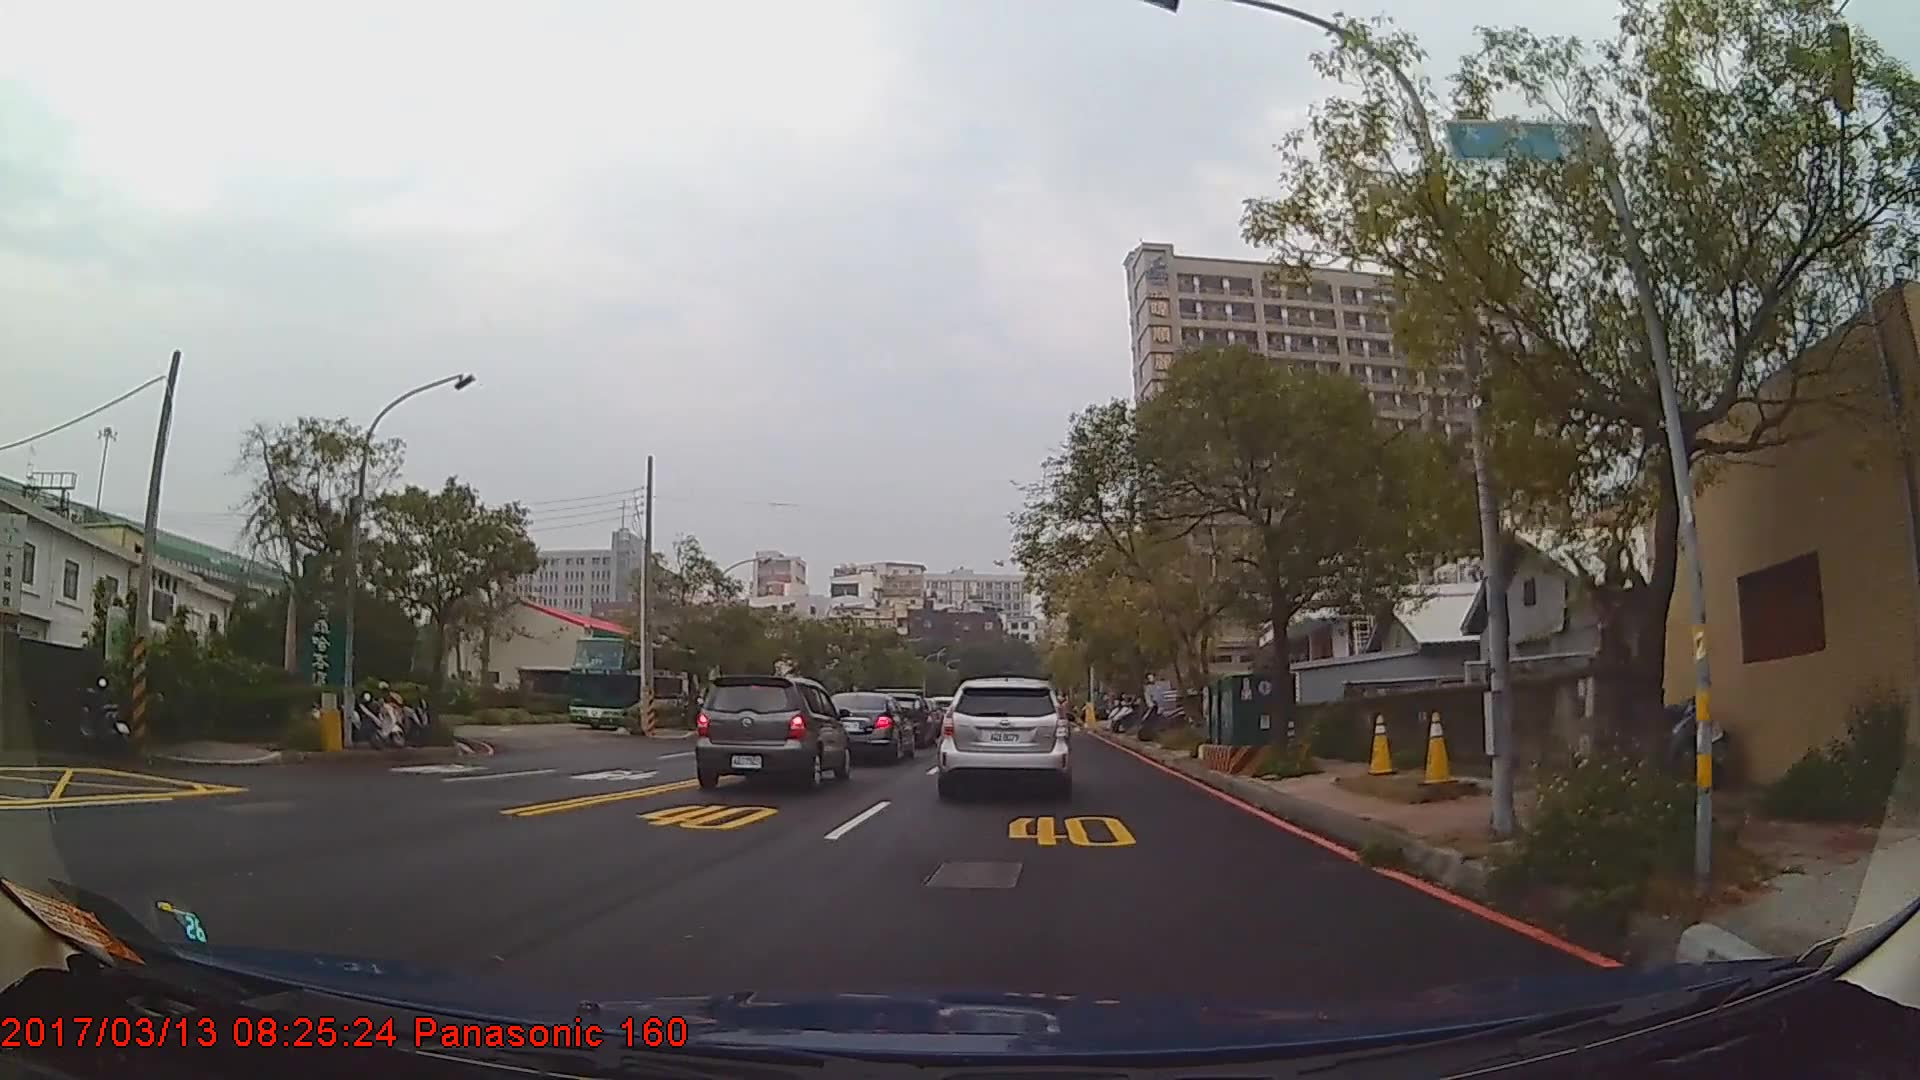vehicle: (694, 673, 848, 787), (938, 676, 1072, 796), (567, 634, 711, 732), (818, 691, 915, 762)
